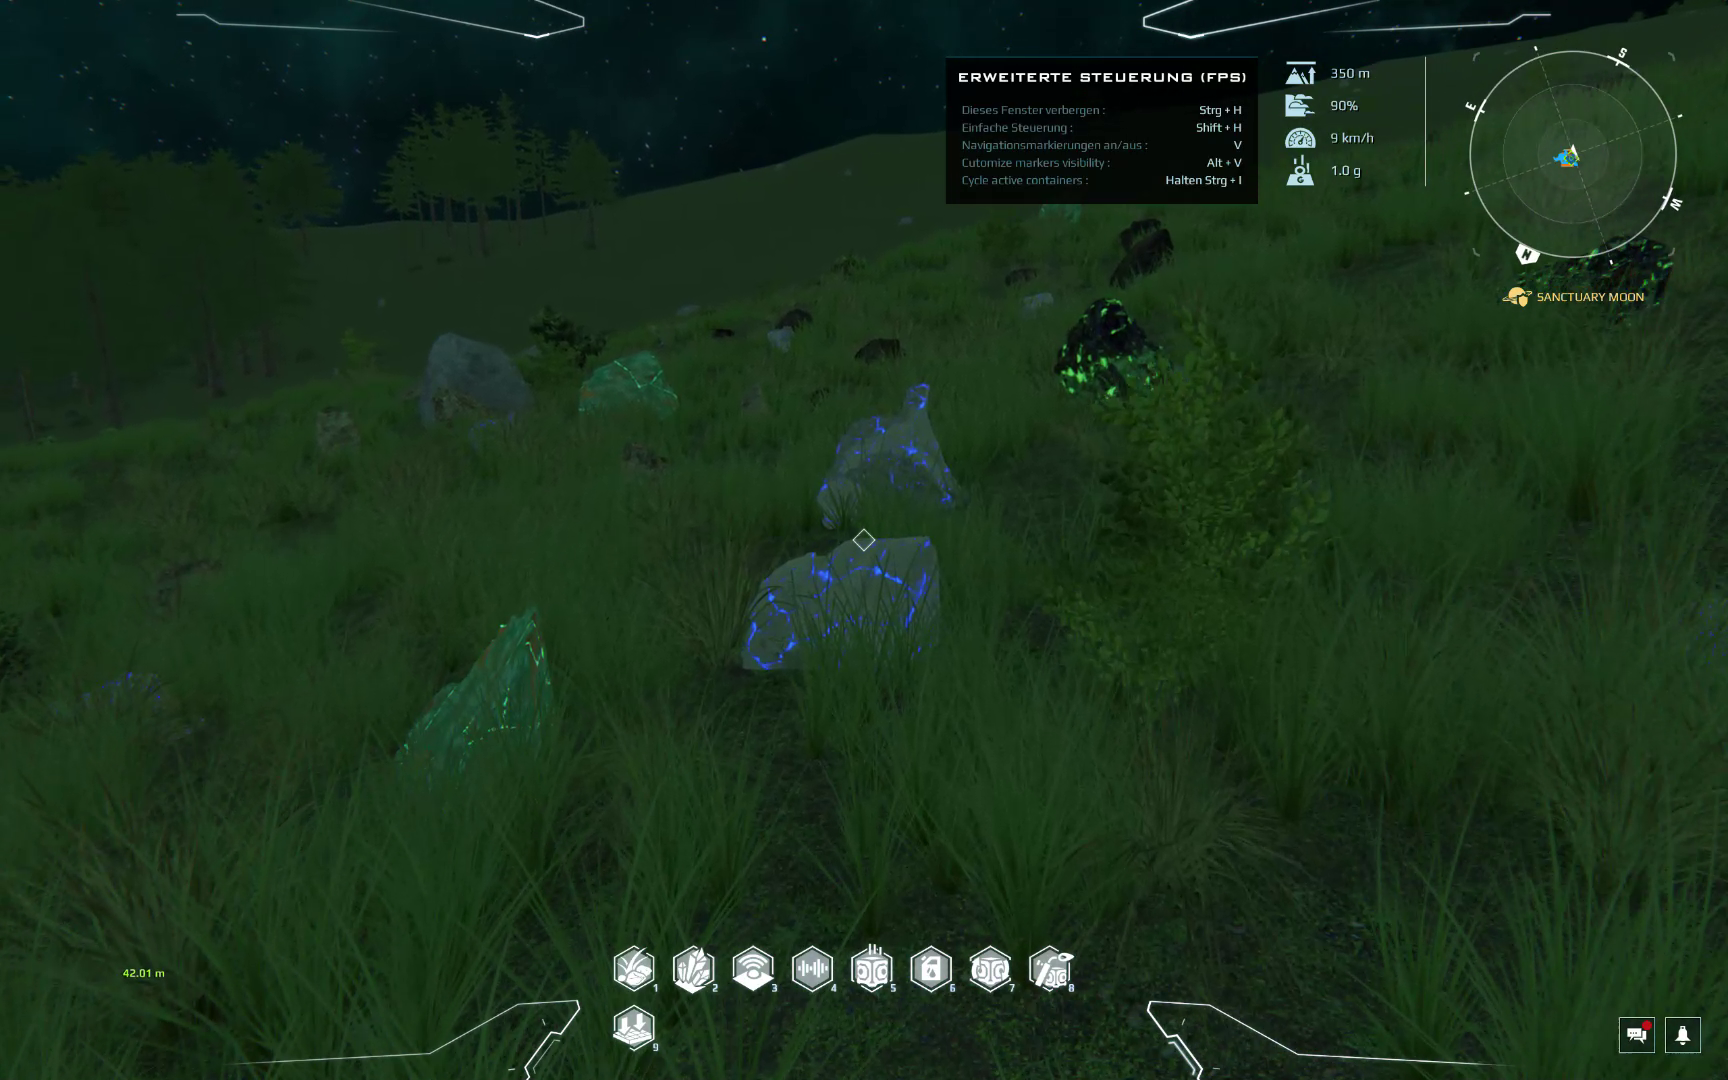Ore: (729, 529, 945, 684), (388, 603, 575, 781), (806, 376, 973, 526), (1493, 229, 1684, 321), (1047, 292, 1179, 411), (71, 656, 182, 742), (574, 346, 685, 427), (1106, 216, 1179, 287), (302, 397, 366, 465), (424, 389, 511, 435), (848, 335, 911, 368), (1030, 204, 1091, 228), (768, 305, 817, 332), (999, 266, 1043, 287), (707, 326, 738, 342)
